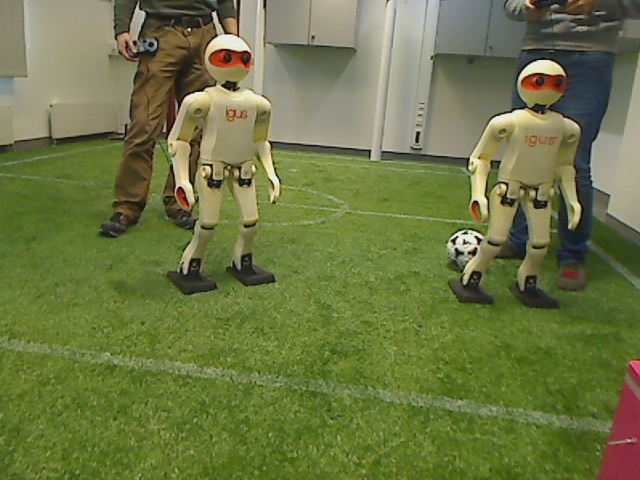ball: (439, 225, 490, 272)
robot: (164, 36, 289, 296), (457, 64, 578, 303)
